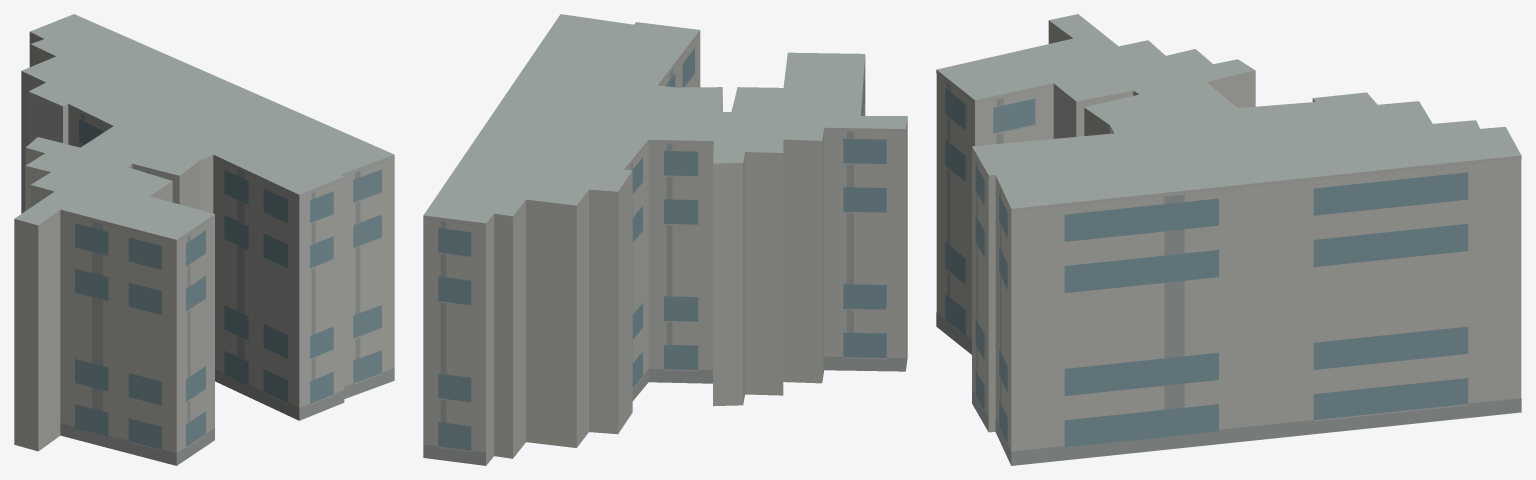
Rendered from survey-upis-32586211.glb.
3 views of the same model, side by side, from view 1: azimuth 30°, elevation 25°; view 2: azimuth 150°, elevation 25°; view 3: azimuth 270°, elevation 25° (orthographic). The views are drawn at different scales.
Visible parts, largest first — view 1: survey-upis-32586211.tmp; view 2: survey-upis-32586211.tmp; view 3: survey-upis-32586211.tmp.
Boxes of the visible parts, x1,y1,x2,y2 form: survey-upis-32586211.tmp: (14,14,394,465); survey-upis-32586211.tmp: (423,14,907,465); survey-upis-32586211.tmp: (936,14,1521,465).
Bounding box in the file's own units: 26.51 × 16.3 × 33.63.
